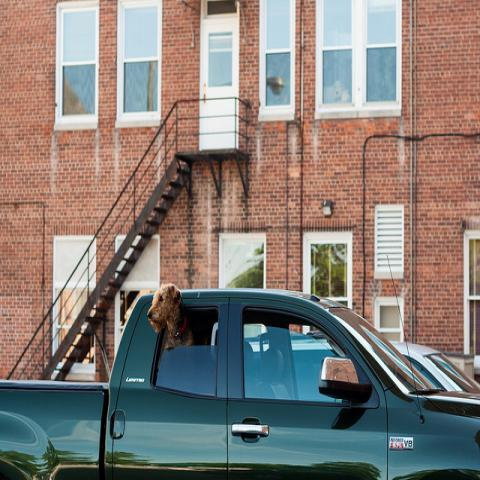car: (391, 340, 479, 406)
truck: (0, 284, 479, 479)
